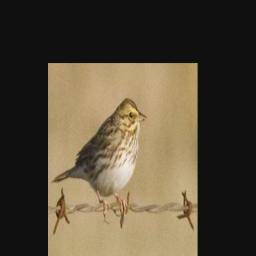Sparrow: (51, 93, 148, 223)
